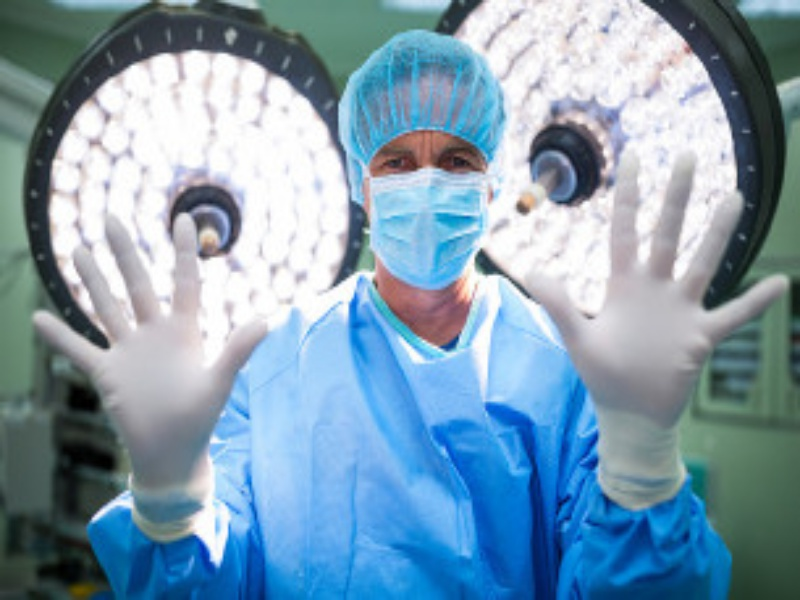mask: (338, 29, 503, 289)
